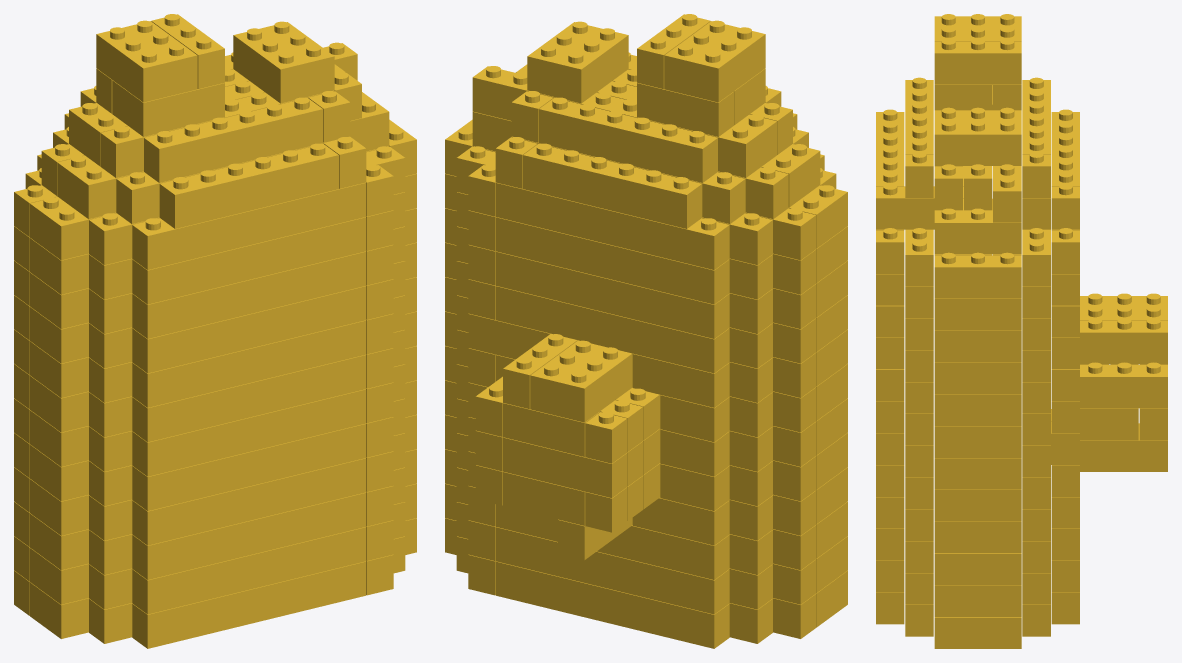
The picture shows the model from 3 angles, left to right: view 1: azimuth 30°, elevation 25°; view 2: azimuth 150°, elevation 25°; view 3: azimuth 270°, elevation 25°; orthographic projection. The views are drawn at different scales.
Parts seen in each view (by area): view 1: probe; view 2: probe; view 3: probe.
Part boxes in pixels (x1,y1,x2,y2): probe: [14, 14, 416, 648]; probe: [445, 14, 847, 648]; probe: [876, 14, 1167, 648].
Bounding box in the file's own units: 12.97 × 19.39 × 9.97.
